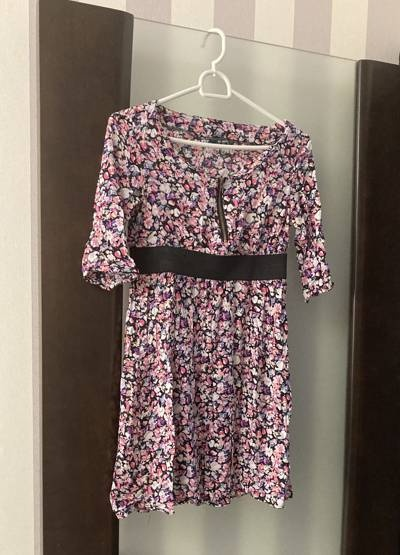Dress: (59, 107, 347, 515)
